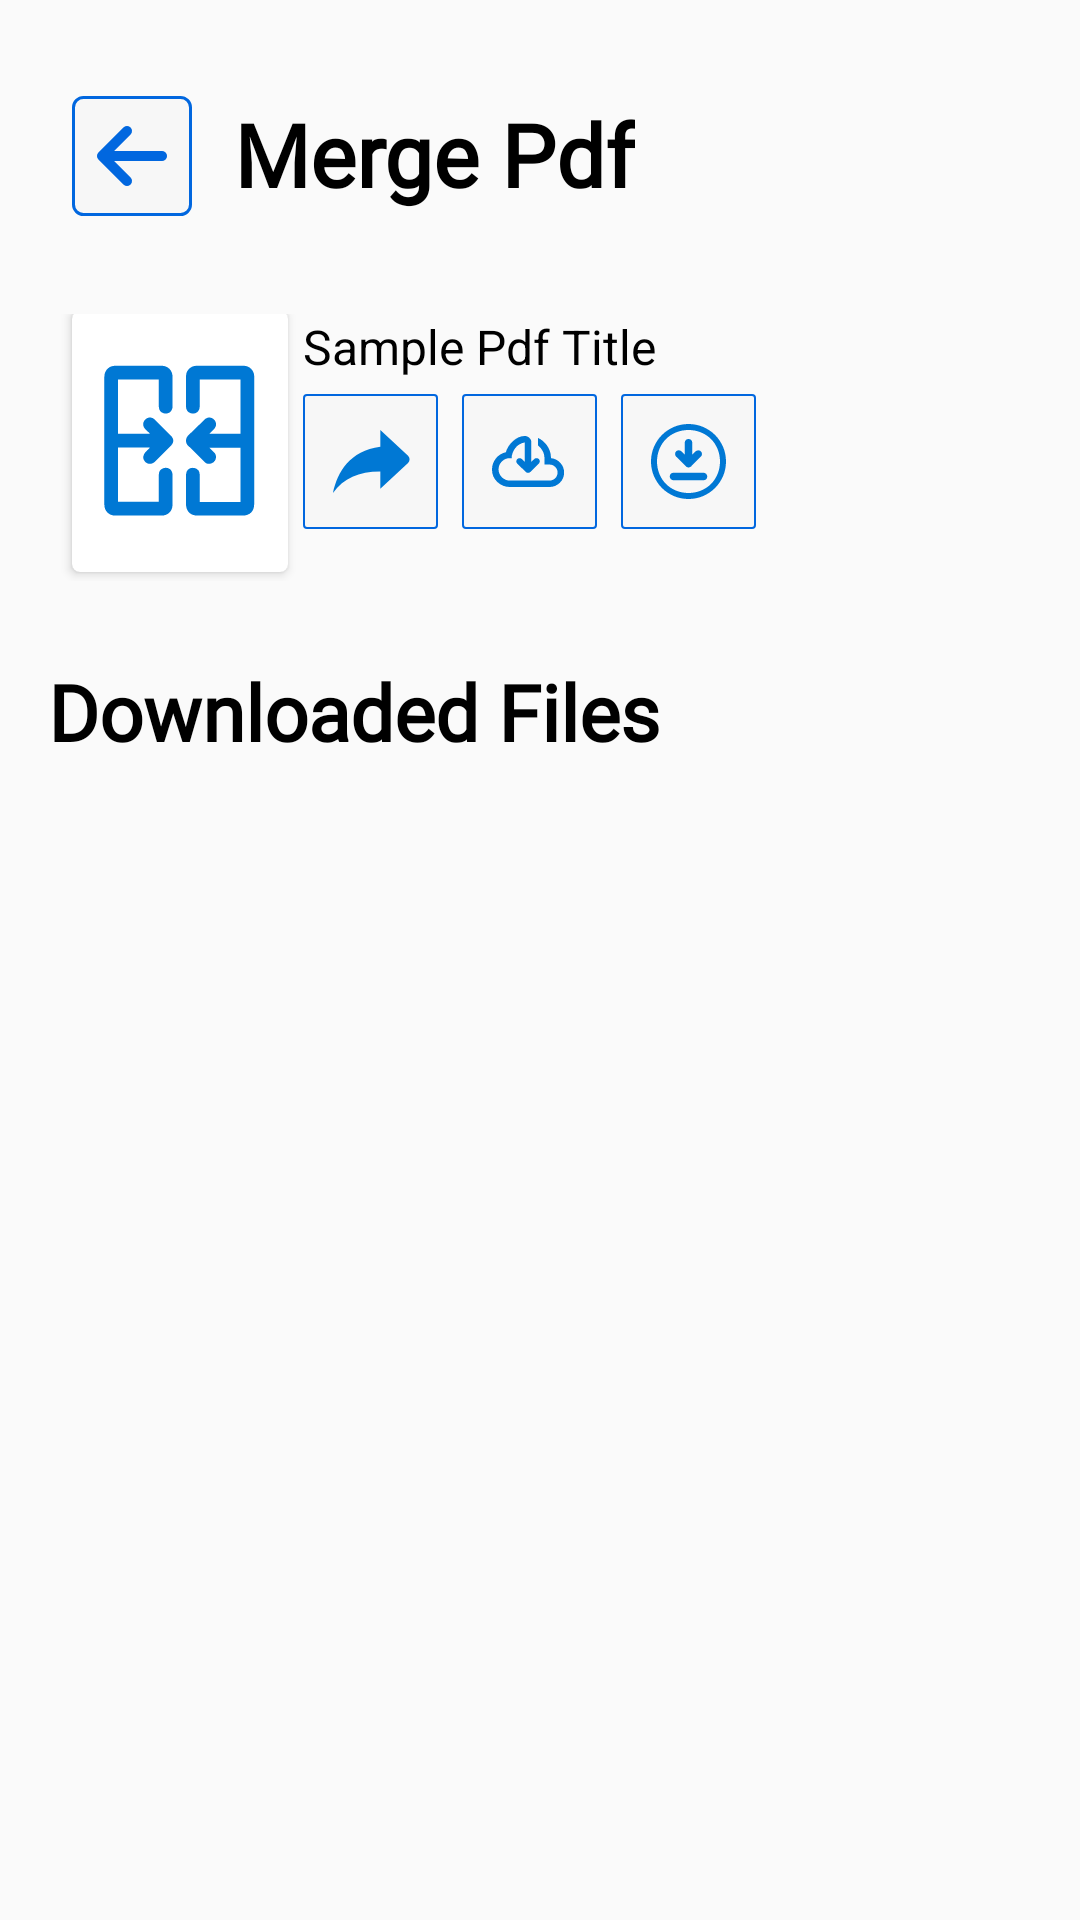

Where icons sit on this 1080px x 1920px app screen, as [x1,y1,x2,y2]:
back: [72,96,192,216]
download: [651,424,726,499]
shares: [333,430,410,493]
